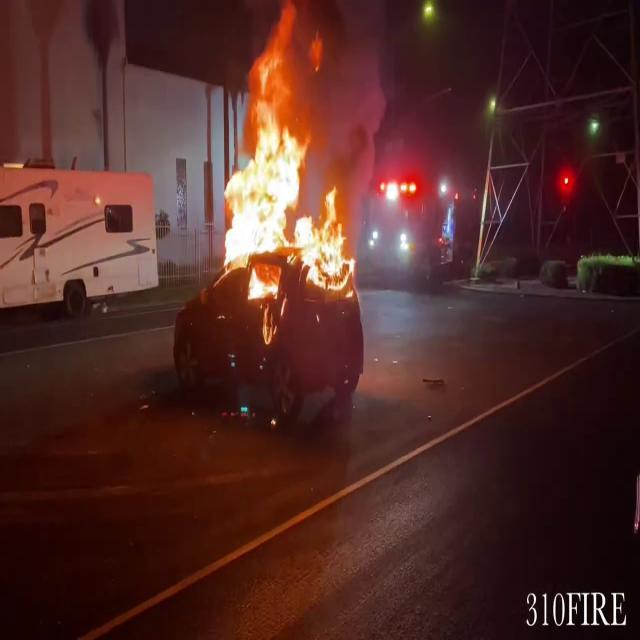Fire: (217, 8, 356, 300)
Smoke: (312, 10, 396, 192)
